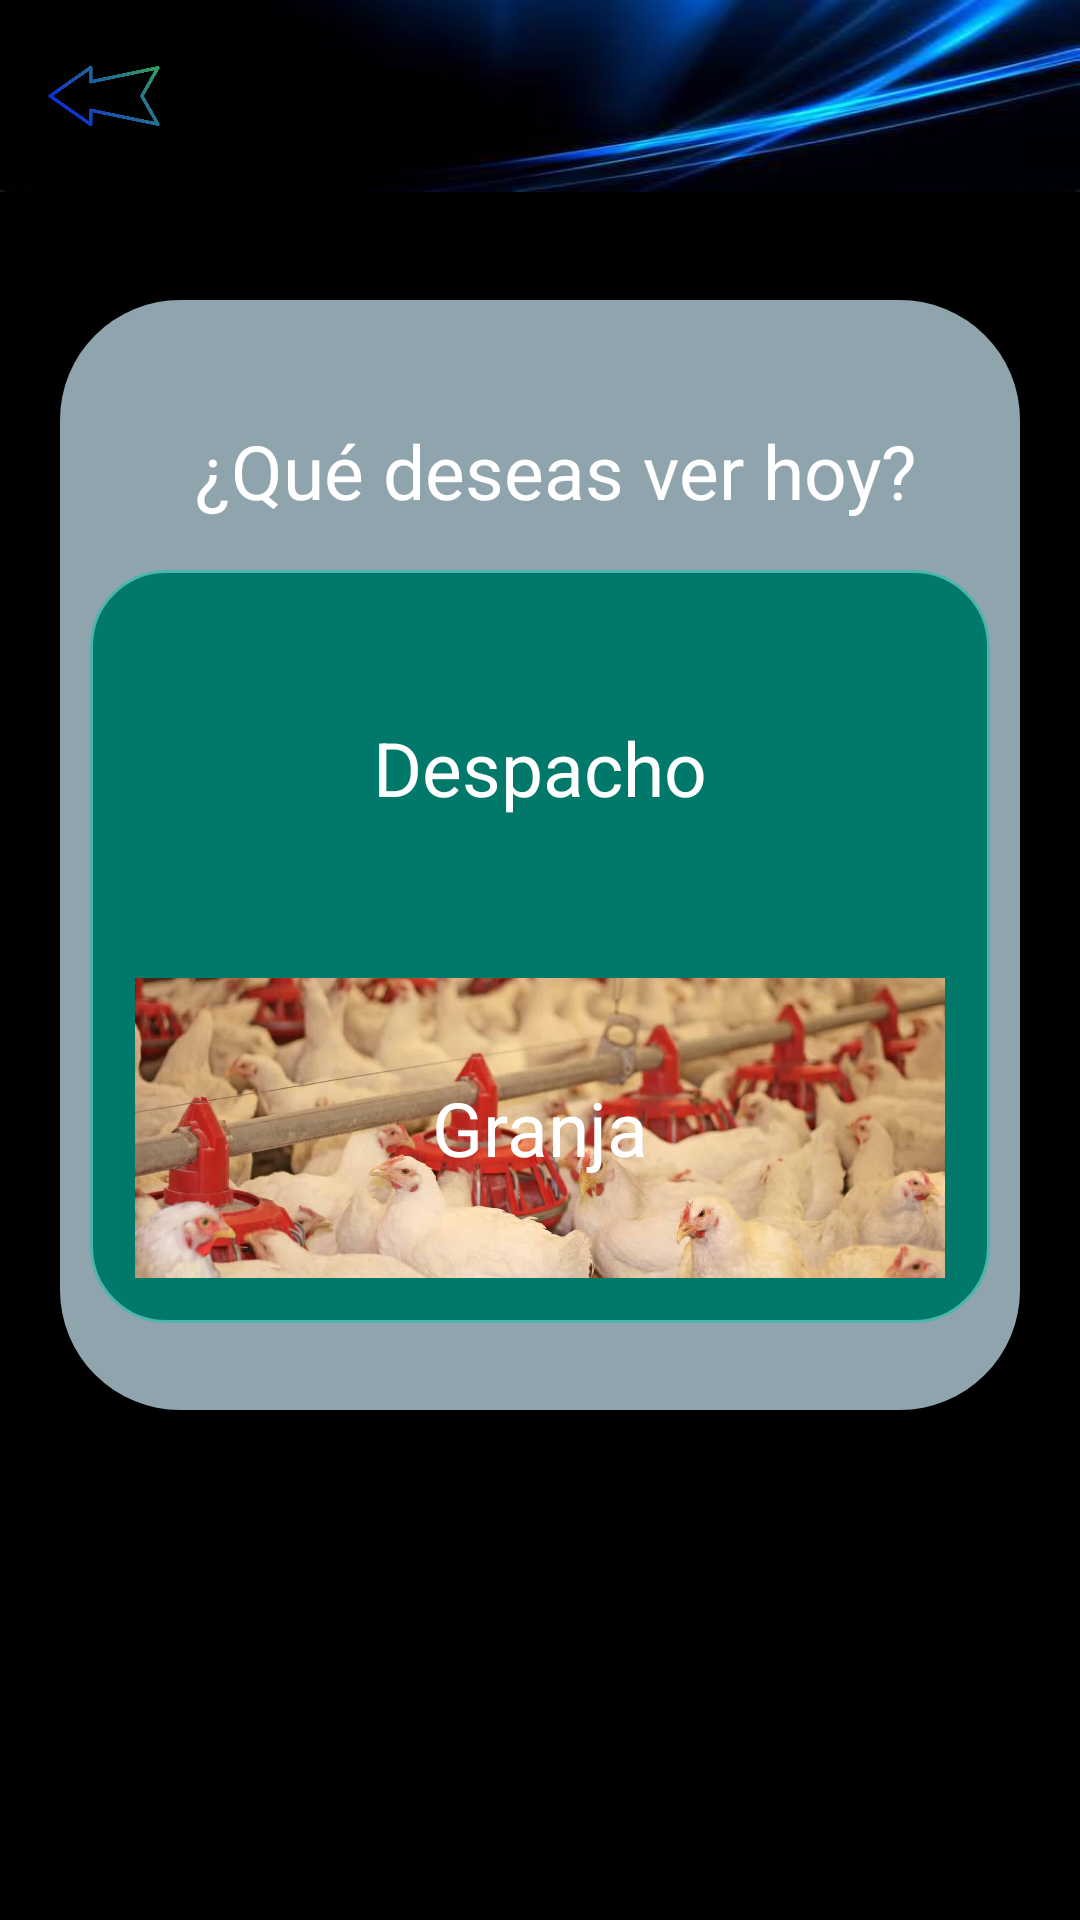

Icon bounding boxes for this 1080 × 1920 phone screenshot, format region(x1, y1, x2, y2):
back: region(0, 66, 160, 192)
